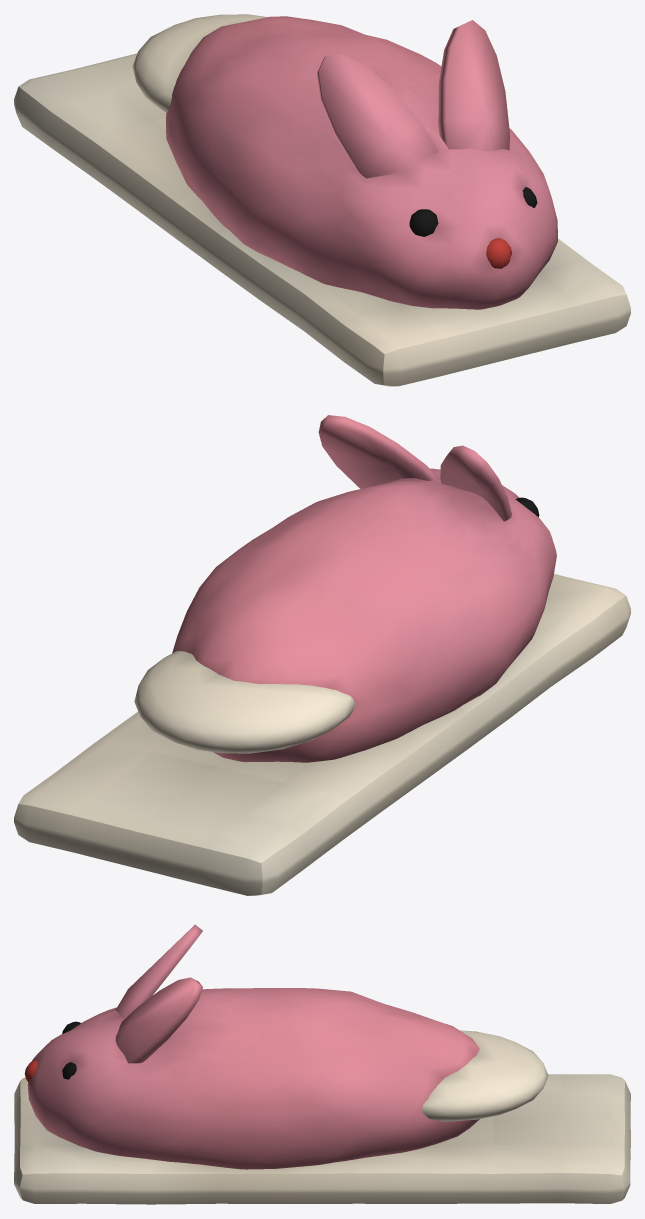
Rendered from den_slipper.glb.
3 renders of one model, top to bottom at view 1: azimuth 30°, elevation 25°; view 2: azimuth 150°, elevation 25°; view 3: azimuth 270°, elevation 25°, orthographic. The views are drawn at different scales.
Visible parts, largest first — view 1: den_slipper; view 2: den_slipper; view 3: den_slipper.
Boxes of the visible parts, left/top/right/bottom form: den_slipper: left=14, top=14, right=630, bottom=386; den_slipper: left=14, top=415, right=630, bottom=895; den_slipper: left=14, top=924, right=630, bottom=1204.
Size of the model in its own units: 12.24 by 11.07 by 30.03.
